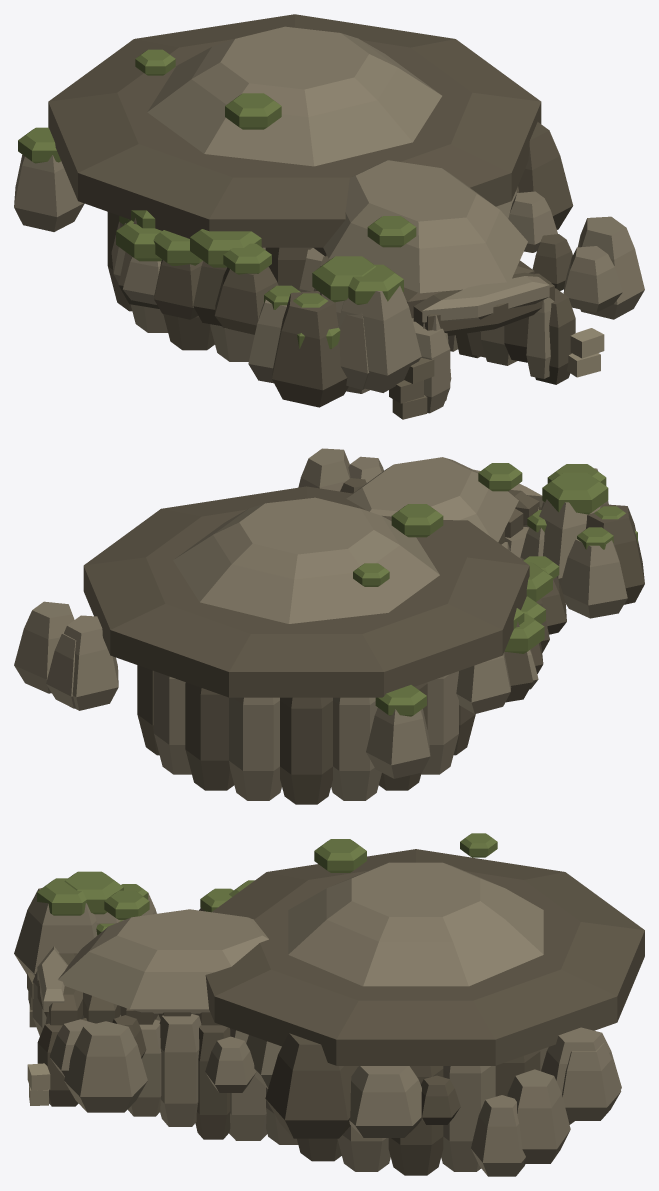
The model's file is cave_ruin.glb.
The picture shows the model from 3 angles, top to bottom: view 1: azimuth 30°, elevation 25°; view 2: azimuth 150°, elevation 25°; view 3: azimuth 270°, elevation 25°; orthographic projection. The views are drawn at different scales.
Visible parts, largest first — view 1: cave_ruin; view 2: cave_ruin; view 3: cave_ruin.
Boxes of the visible parts, left/top/right/bottom form: cave_ruin: left=14, top=14, right=644, bottom=419; cave_ruin: left=14, top=448, right=644, bottom=804; cave_ruin: left=14, top=833, right=644, bottom=1176.
Size of the model in its own units: 40.33 by 19.83 by 50.2.
